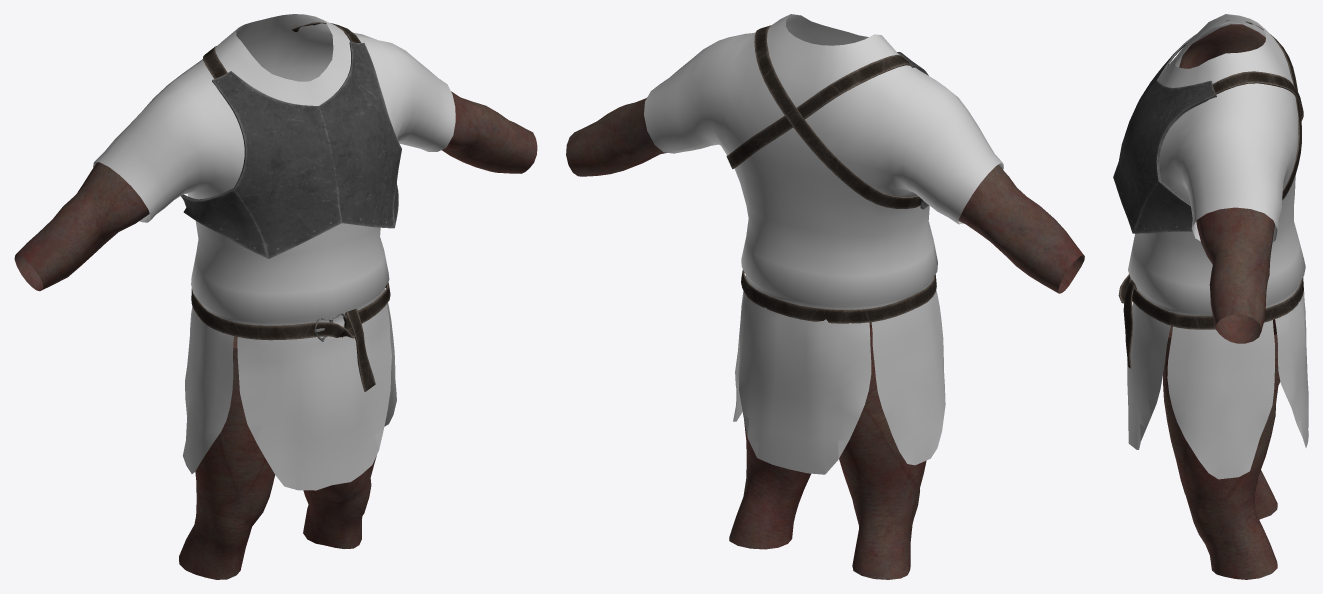
Rendered from sk_uruk_hai_plate_light_b2.fbx.
3 views of the same model, side by side, from view 1: azimuth 30°, elevation 25°; view 2: azimuth 150°, elevation 25°; view 3: azimuth 270°, elevation 25° (orthographic). The views are drawn at different scales.
Visible parts, largest first — view 1: sk_uruk_hai_plate_light_b2.2, sk_uruk_hai_plate_light_b2.1, sk_uruk_hai_plate_light_b2.body.0, sk_uruk_hai_plate_light_b2.body.1, sk_uruk_hai_plate_light_b2.0; view 2: sk_uruk_hai_plate_light_b2.2, sk_uruk_hai_plate_light_b2.body.0, sk_uruk_hai_plate_light_b2.body.1, sk_uruk_hai_plate_light_b2.0; view 3: sk_uruk_hai_plate_light_b2.2, sk_uruk_hai_plate_light_b2.body.0, sk_uruk_hai_plate_light_b2.body.1, sk_uruk_hai_plate_light_b2.1, sk_uruk_hai_plate_light_b2.0.
Boxes of the visible parts, bbox=[...] form: sk_uruk_hai_plate_light_b2.2: bbox=[93, 14, 455, 490]; sk_uruk_hai_plate_light_b2.1: bbox=[181, 42, 401, 258]; sk_uruk_hai_plate_light_b2.body.0: bbox=[179, 336, 376, 579]; sk_uruk_hai_plate_light_b2.body.1: bbox=[14, 91, 537, 291]; sk_uruk_hai_plate_light_b2.0: bbox=[184, 22, 390, 391]; sk_uruk_hai_plate_light_b2.2: bbox=[644, 14, 1003, 474]; sk_uruk_hai_plate_light_b2.body.0: bbox=[729, 322, 926, 579]; sk_uruk_hai_plate_light_b2.body.1: bbox=[566, 98, 1084, 293]; sk_uruk_hai_plate_light_b2.0: bbox=[726, 25, 936, 323]; sk_uruk_hai_plate_light_b2.2: bbox=[1127, 14, 1308, 479]; sk_uruk_hai_plate_light_b2.body.0: bbox=[1163, 319, 1280, 579]; sk_uruk_hai_plate_light_b2.body.1: bbox=[1179, 24, 1274, 343]; sk_uruk_hai_plate_light_b2.1: bbox=[1113, 34, 1216, 233]; sk_uruk_hai_plate_light_b2.0: bbox=[1118, 20, 1303, 368].
Size of the model in its own units: 1.2 by 0.4161 by 1.19.
